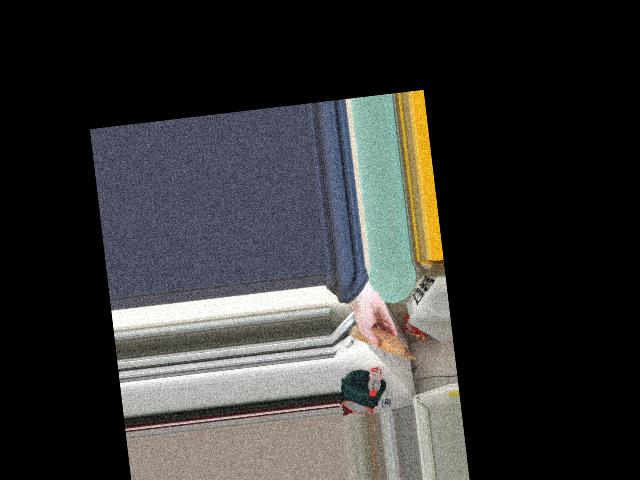sweet_potato: (363, 324, 401, 360)
